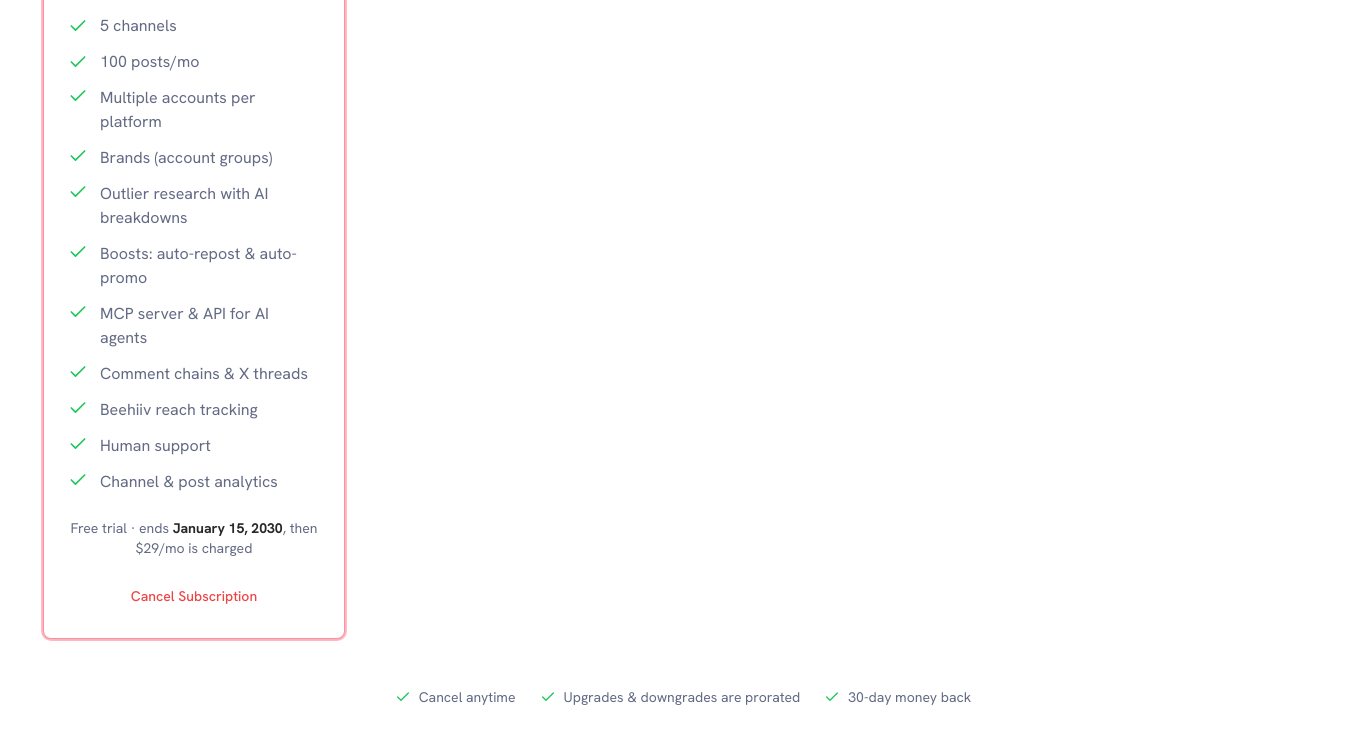
Test: Plans billing recovery › warns a trial customer that cancelling ends access now
Later steps or results of the test are not shown.
(page scrolled)
Step 1. Click the button "Cancel Subscription" → (194, 596), box [68,578,320,614]
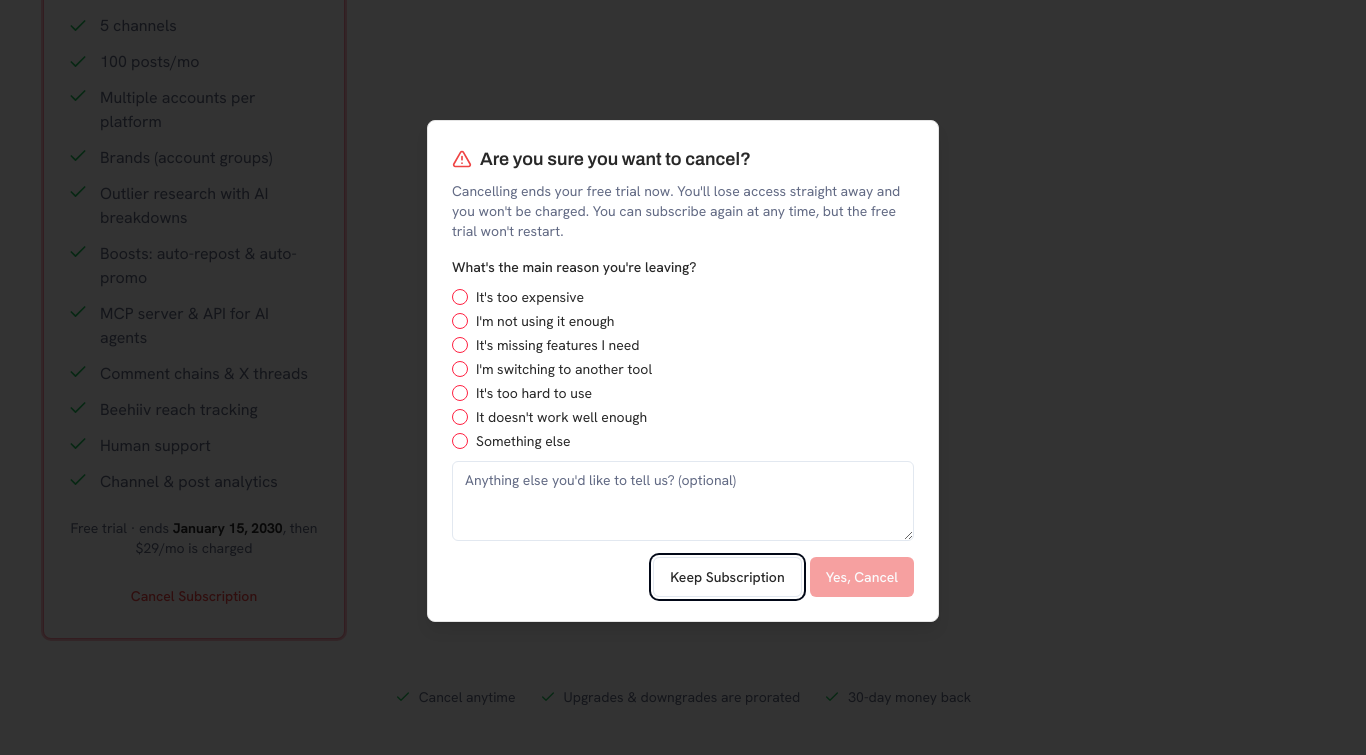
Expected: the text "ends your free trial now" is shown, [452,182,900,240]
